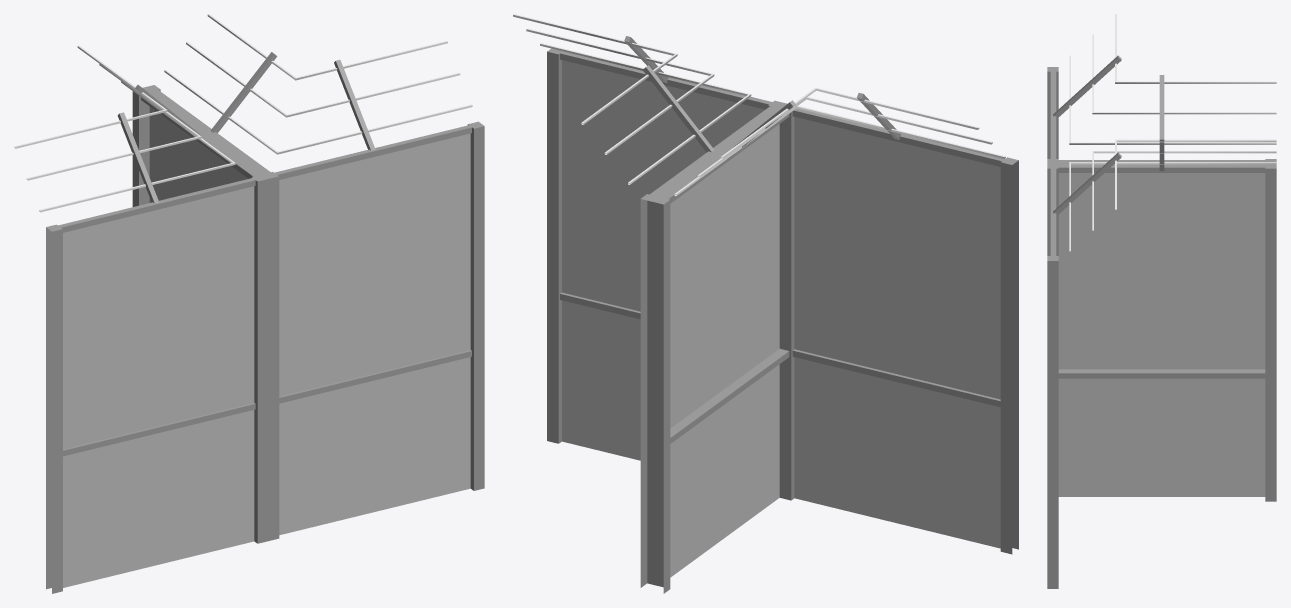
The model's file is SM_Grid_Corner_400.FBX.
3 views of the same model, side by side, from view 1: azimuth 30°, elevation 25°; view 2: azimuth 150°, elevation 25°; view 3: azimuth 270°, elevation 25° (orthographic). The views are drawn at different scales.
Visible parts, largest first — view 1: SM_Grid_Corner_400; view 2: SM_Grid_Corner_400; view 3: SM_Grid_Corner_400.
Boxes of the visible parts, x1,y1,x2,y2 form: SM_Grid_Corner_400: [14, 14, 484, 593]; SM_Grid_Corner_400: [513, 14, 1018, 593]; SM_Grid_Corner_400: [1047, 14, 1276, 588].
Size of the model in its own units: 400 by 200 by 377.
